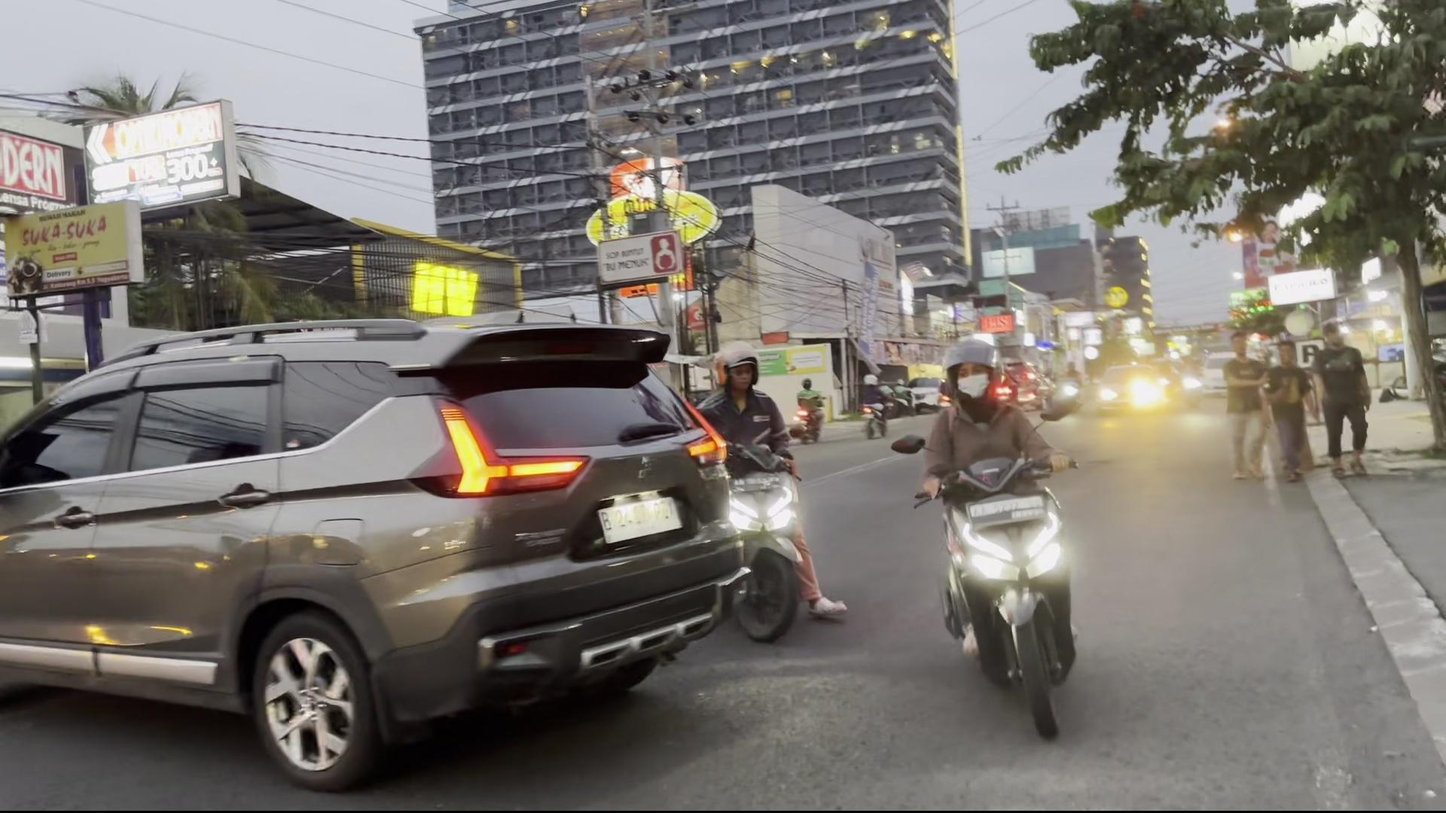helm: (936, 334, 1008, 405)
riding: (892, 333, 1095, 750)
